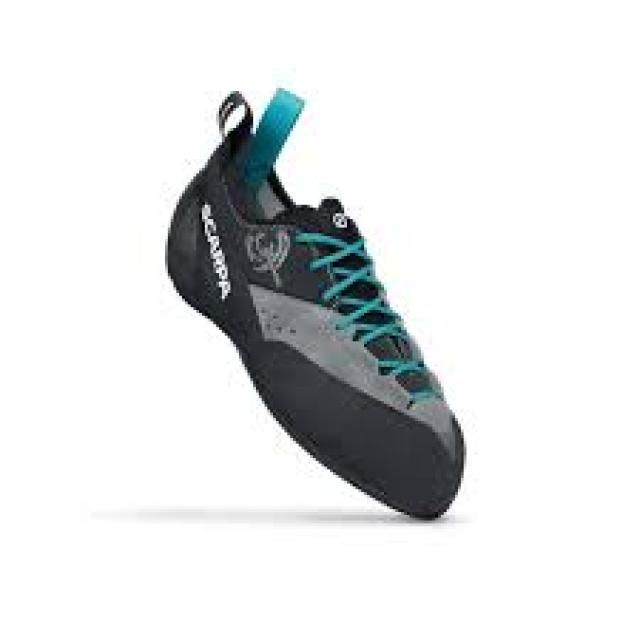climbing-shoes: (161, 89, 467, 522)
